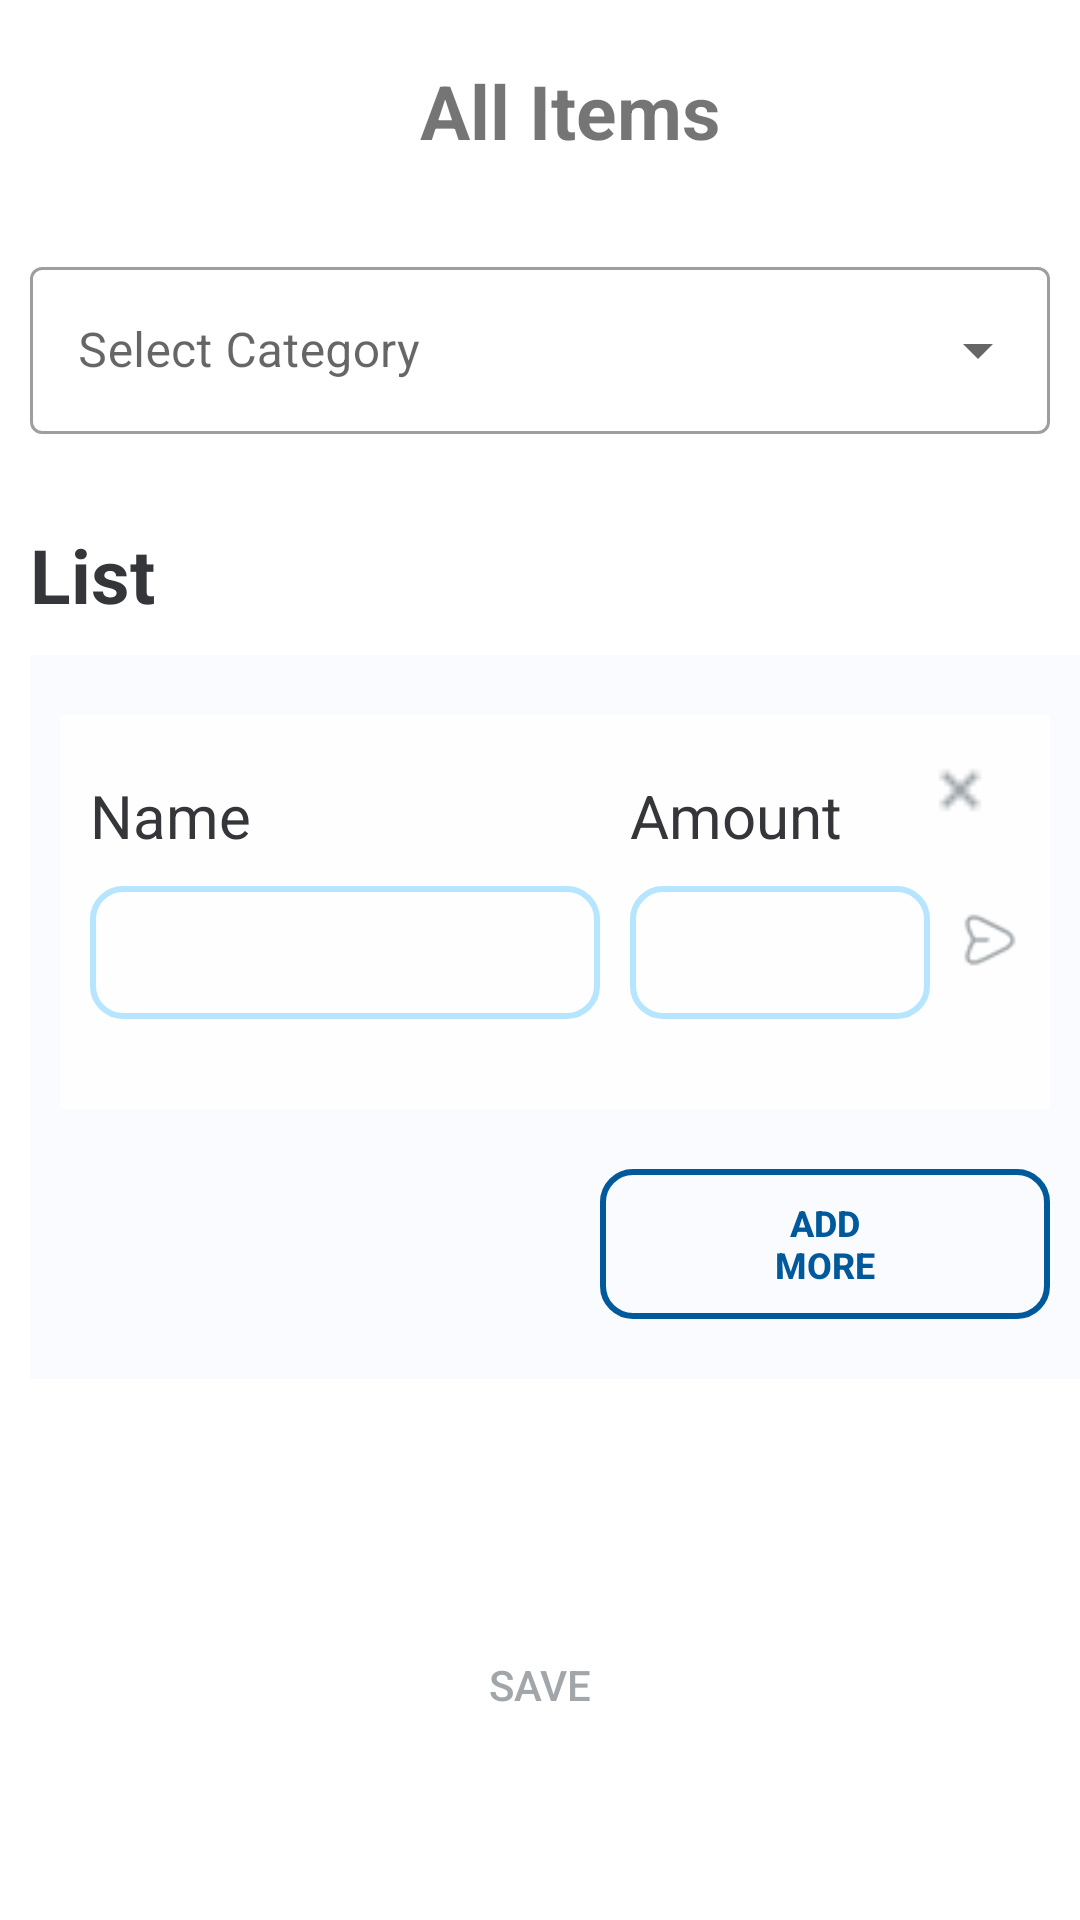

Locate icon controls on the screen. Image size 1080x1920, boxes as (x1, y1, x2, y2).
send: (965, 915, 1015, 965)
